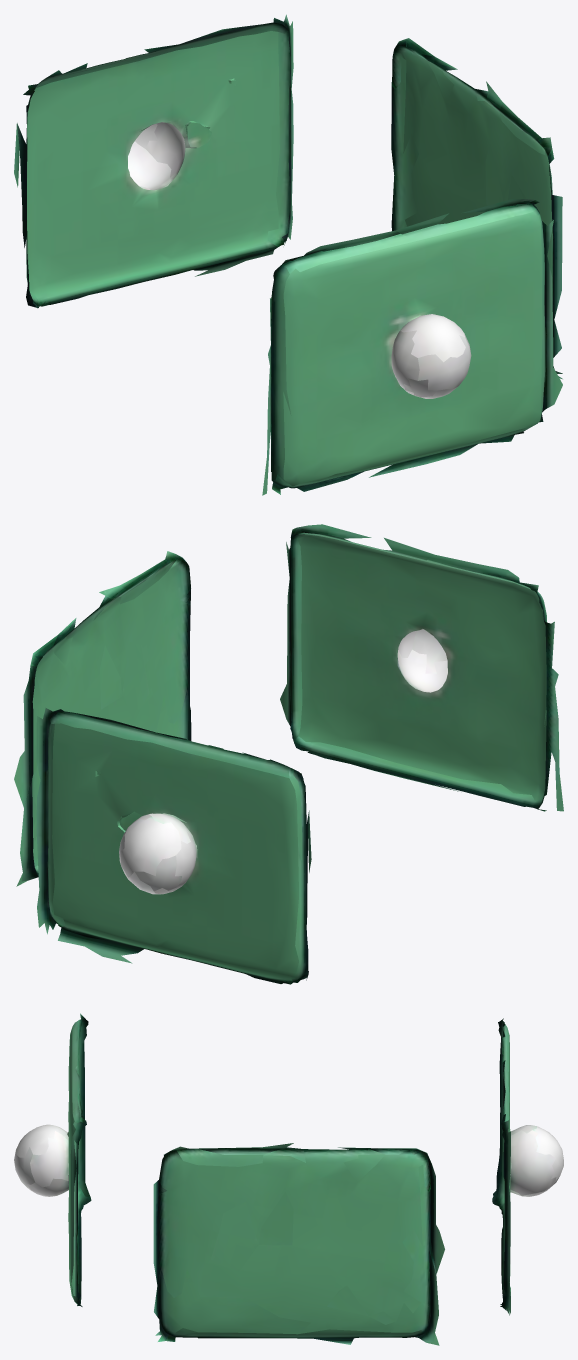
The model's file is drawer_bottom_right.glb.
The picture shows the model from 3 angles, top to bottom: view 1: azimuth 30°, elevation 25°; view 2: azimuth 150°, elevation 25°; view 3: azimuth 270°, elevation 25°; orthographic projection. The views are drawn at different scales.
Visible parts, largest first — view 1: geometry_0; view 2: geometry_0; view 3: geometry_0.
Boxes of the visible parts, x1,y1,x2,y2 form: geometry_0: (14, 14, 562, 495); geometry_0: (14, 524, 563, 984); geometry_0: (14, 1013, 563, 1345).
Size of the model in its own units: 0.1239 by 0.0851 by 0.1988.
1 material, 1 textured.
